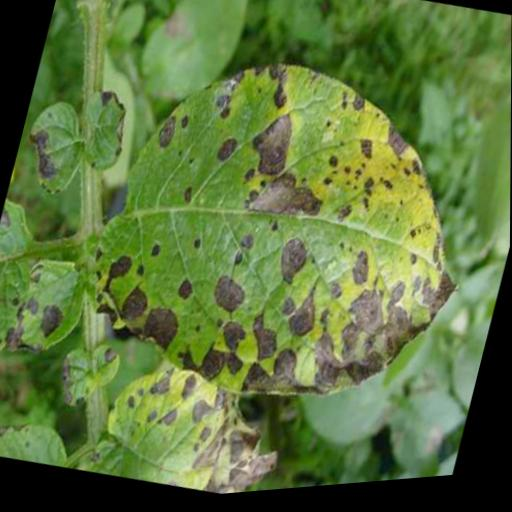Early Blight: (65, 19, 509, 452), (89, 333, 298, 506), (0, 243, 93, 399)
